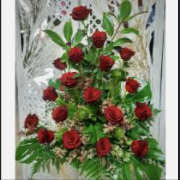RedRose: (95, 133, 115, 160), (123, 76, 147, 97), (81, 84, 106, 104), (70, 1, 92, 23), (103, 104, 126, 124), (62, 128, 81, 152), (133, 99, 151, 124), (50, 101, 72, 121), (86, 28, 106, 49), (38, 123, 56, 145), (134, 135, 150, 157), (59, 72, 80, 88), (22, 114, 39, 132), (67, 45, 85, 61), (100, 53, 114, 71), (53, 55, 67, 73), (43, 84, 57, 101), (120, 43, 133, 60)
